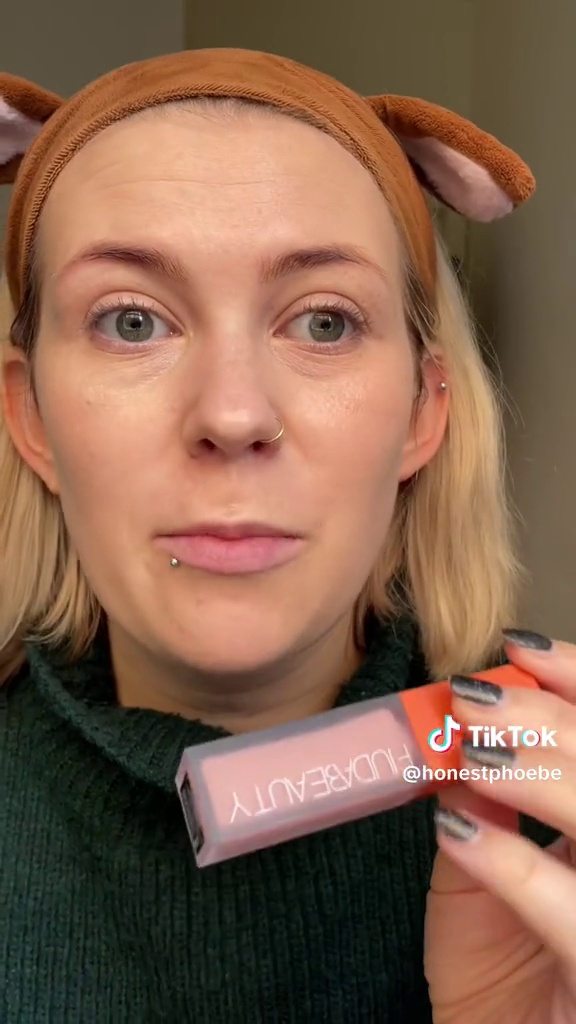train' :'yolo_data/train/images',: (160, 663, 561, 885)
